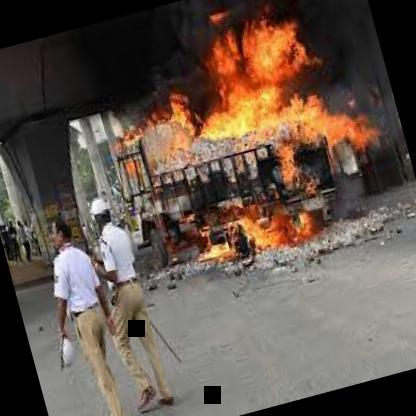fire: (164, 26, 331, 254)
